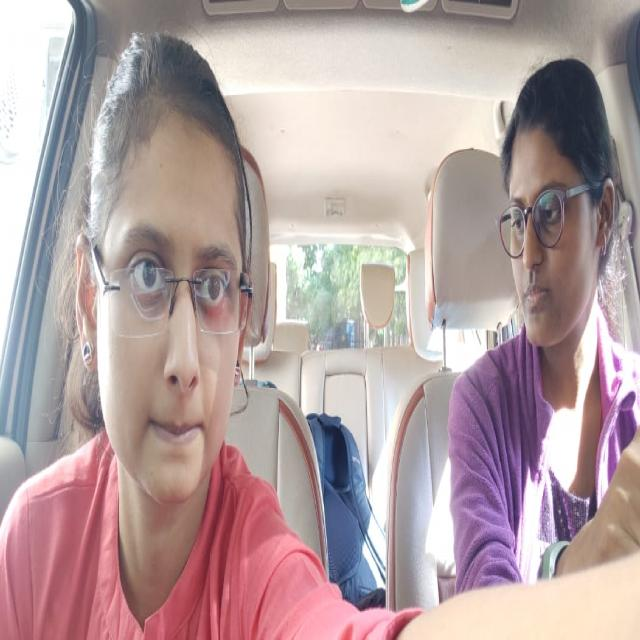LeftRight: (492, 57, 618, 359)
person: (64, 42, 256, 506)
